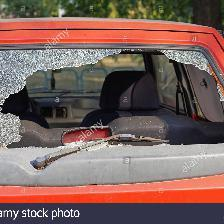glass_shatter: (11, 36, 199, 163)
